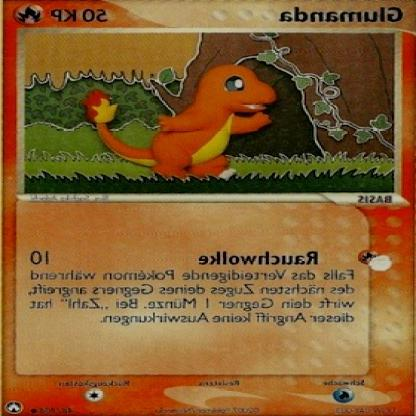Charmander: (3, 1, 416, 416)
